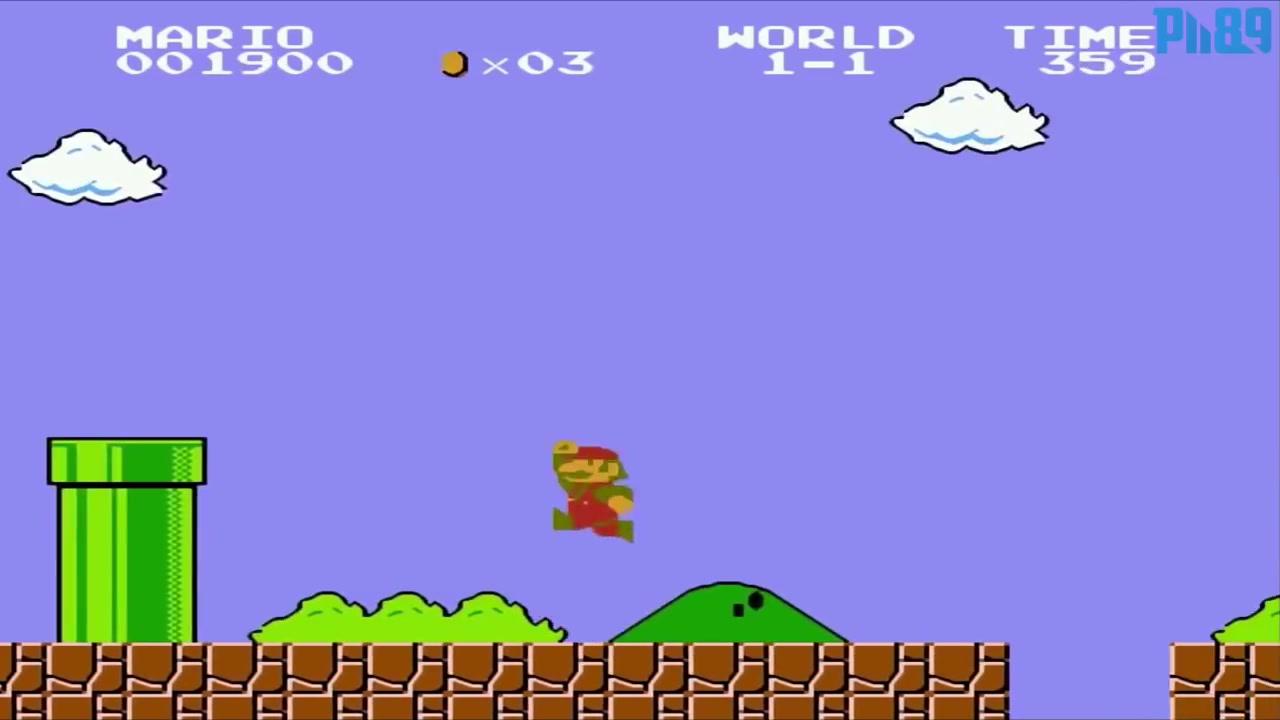mario: (541, 434, 639, 549)
